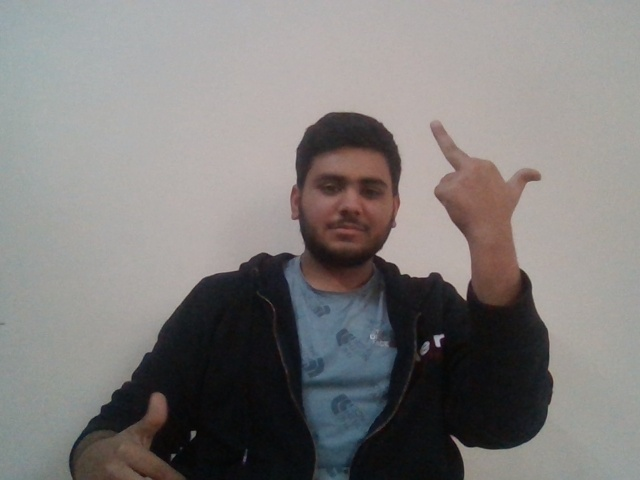Hello: (422, 114, 547, 236)
